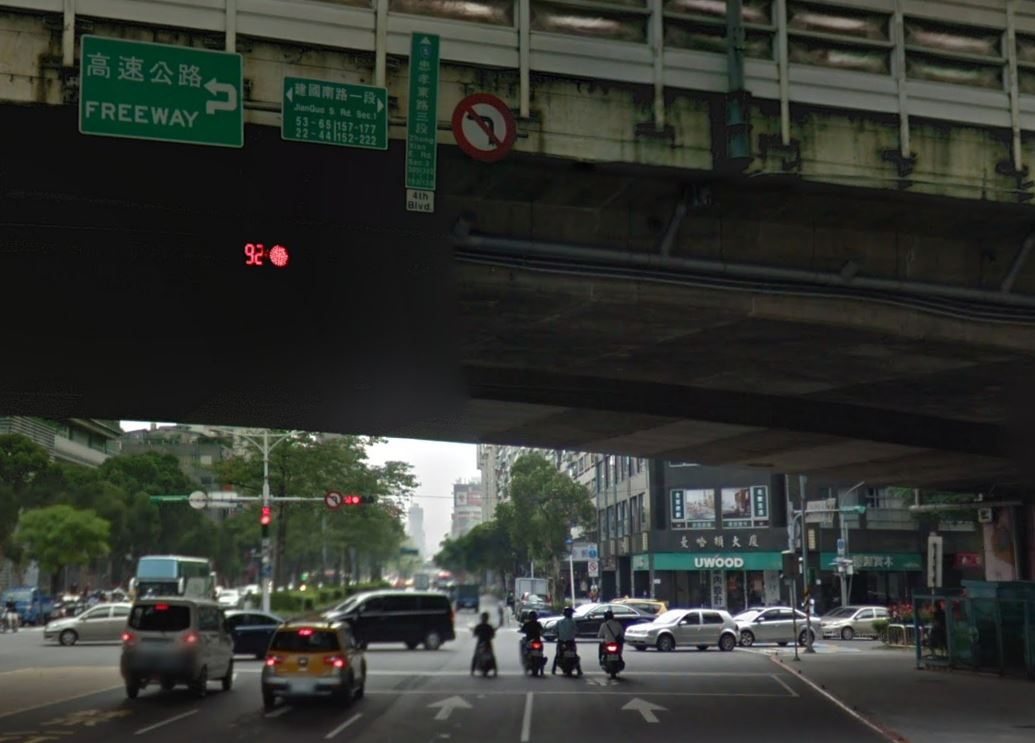No_left_turn: (451, 92, 516, 161)
